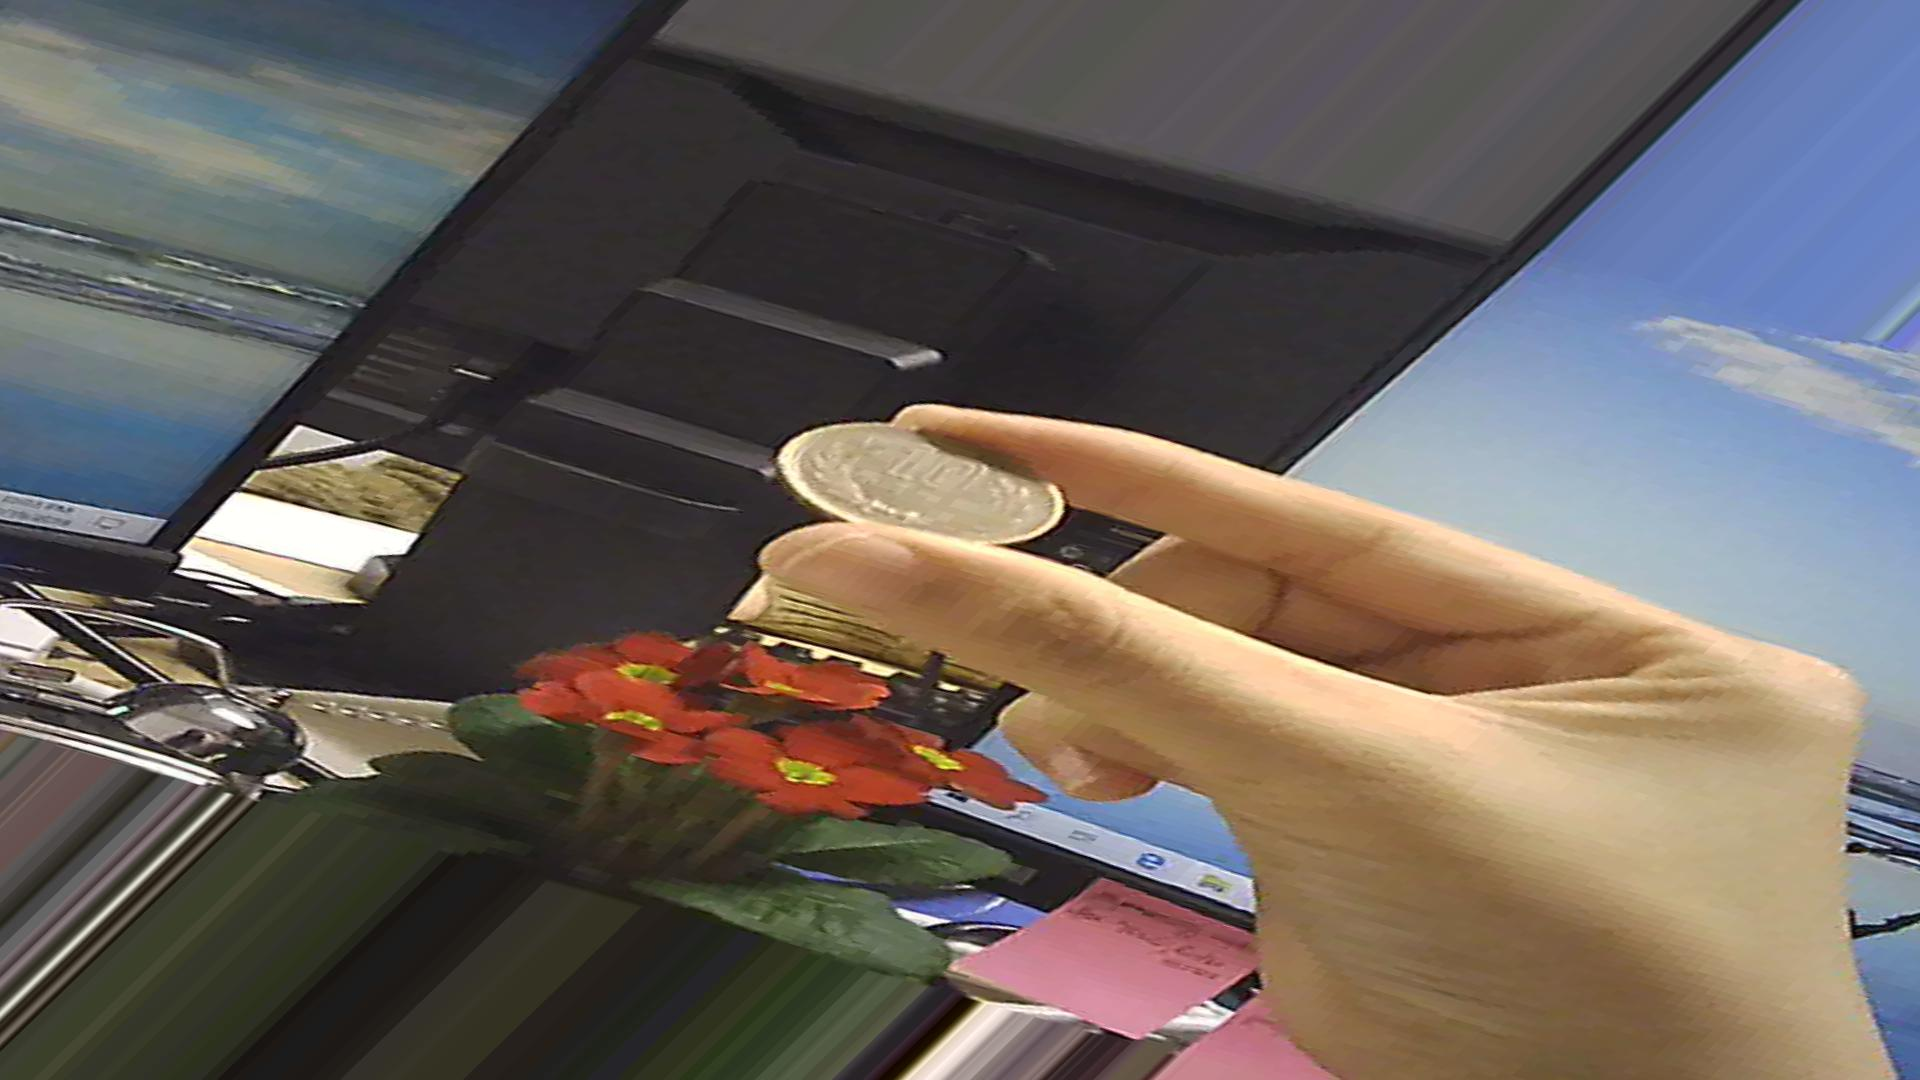10 Yen: (769, 407, 1071, 556)
